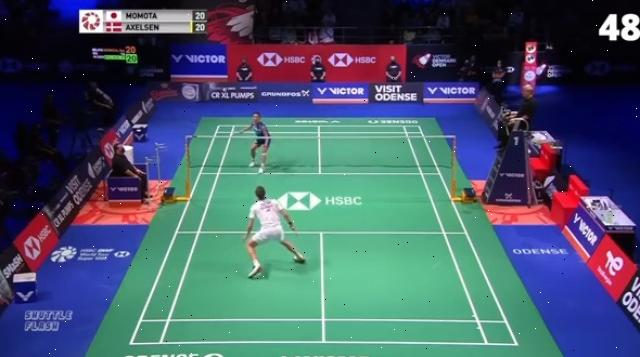Shuttlecock: (222, 86, 226, 94)
